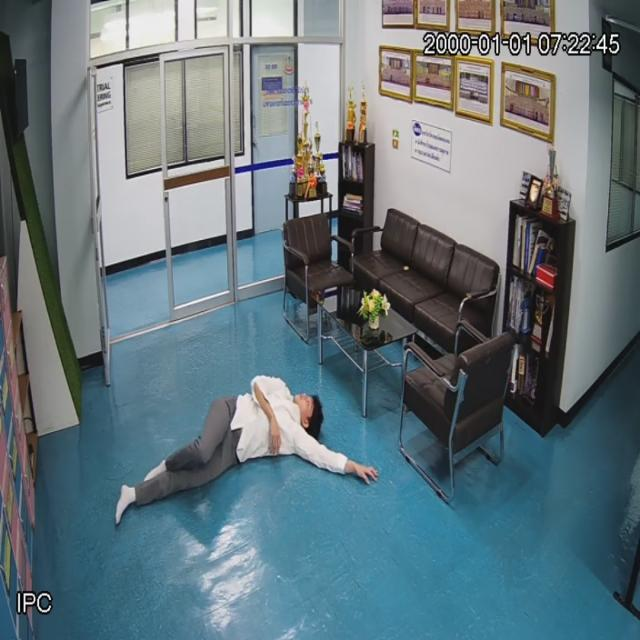fall: (108, 370, 348, 519)
